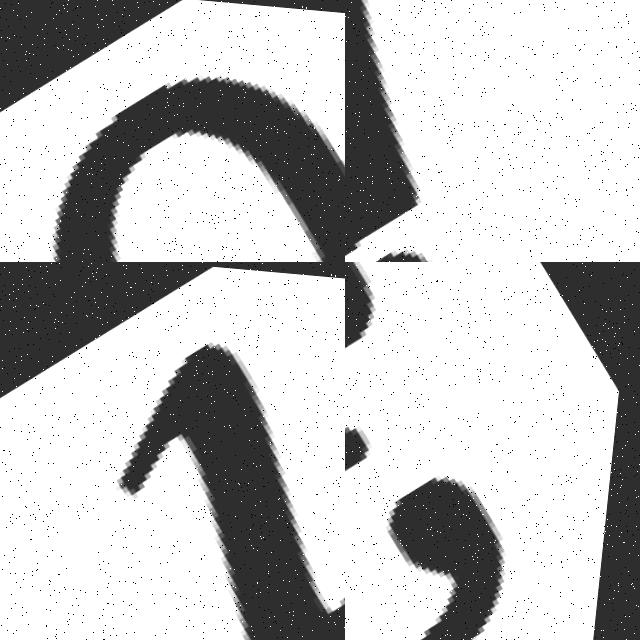3: (345, 262, 620, 640)
6: (0, 0, 345, 262)
I: (26, 300, 345, 640)
J: (345, 0, 640, 262)
